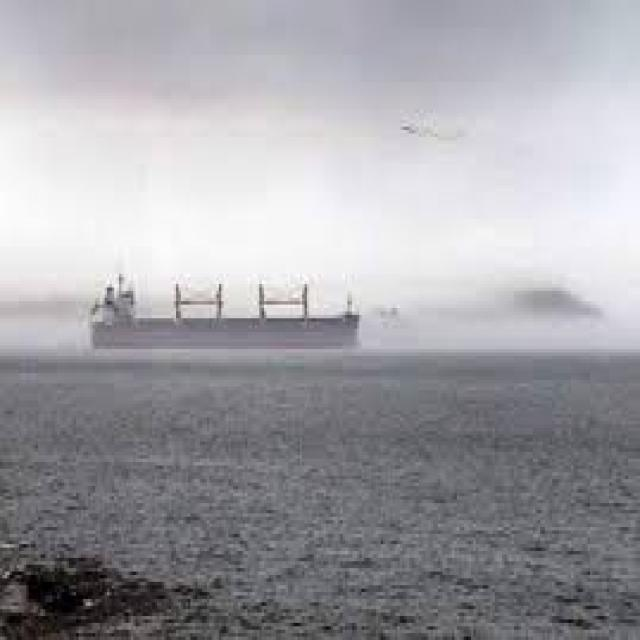cargoship: (83, 270, 362, 350)
